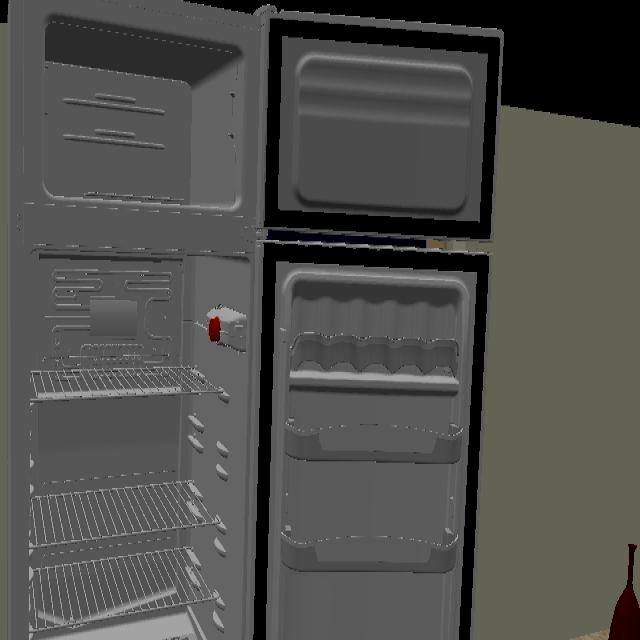fridge: (10, 0, 503, 640)
